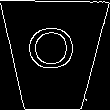O_S: (29, 30, 79, 81)
